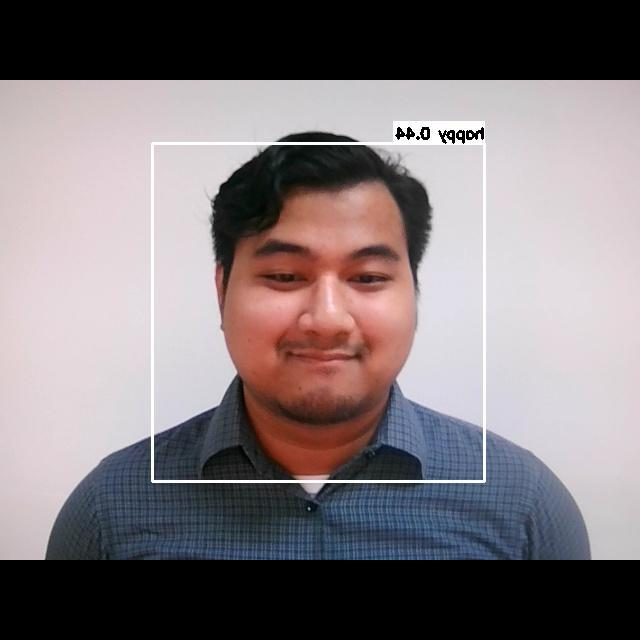Happy: (236, 217, 413, 391)
